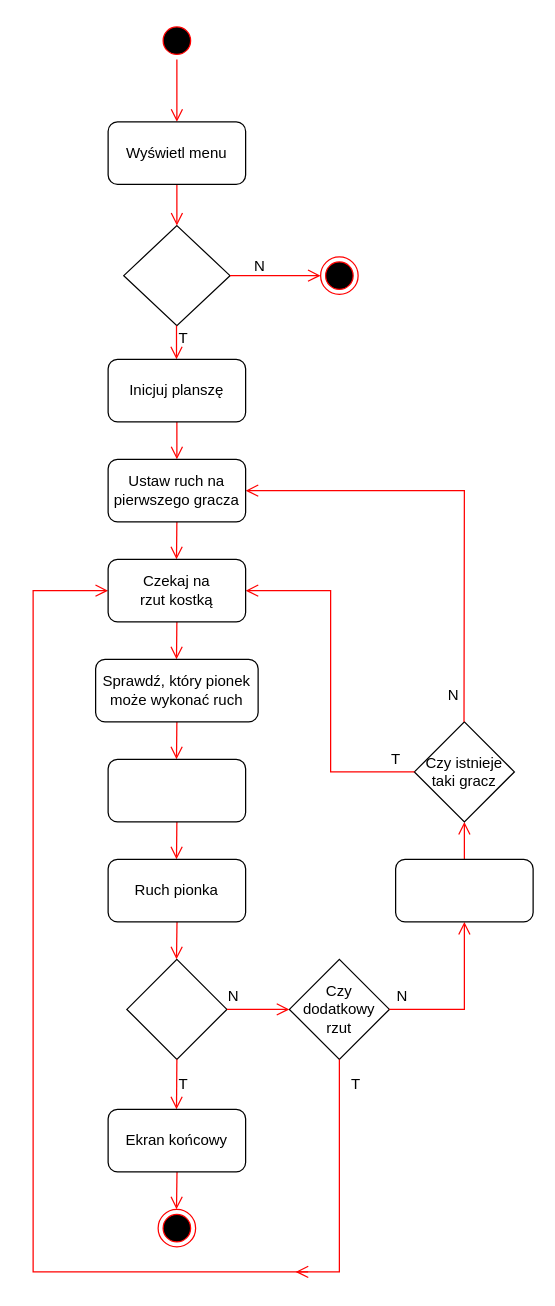
Image size: 555x1306. Some labels were removed from this diagram. The shapes that lost their labels are listed below. From the top down, each one's centre as x and y in pixels, then its label:
At (x=176, y=275): "Czy rozpoczęto grę".
At (x=176, y=790): "Czekaj na wybór pionka".
At (x=463, y=890): "Nr gracza ++".
At (x=176, y=1008): "Czy gracz wygrał".
